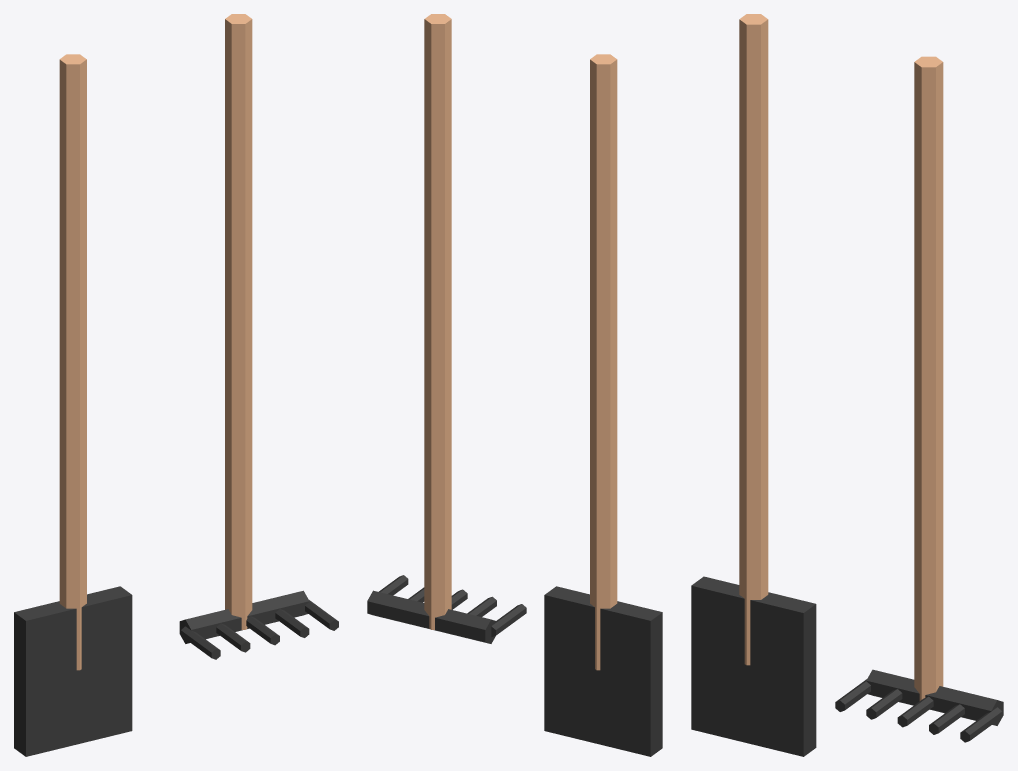
The picture shows the model from 3 angles, left to right: view 1: azimuth 30°, elevation 25°; view 2: azimuth 150°, elevation 25°; view 3: azimuth 330°, elevation 25°; orthographic projection. The views are drawn at different scales.
Parts seen in each view (by area): view 1: Spade, Tool handle.001, Tool handle, Rake head; view 2: Spade, Tool handle.001, Tool handle, Rake head, Rake tine; view 3: Tool handle.001, Spade, Tool handle, Rake head, Rake tine.004.
Part boxes in pixels (x1,y1,x2,y2): Spade: (14, 586, 132, 756); Tool handle.001: (225, 14, 252, 629); Tool handle: (59, 54, 86, 670); Rake head: (179, 590, 309, 643); Spade: (544, 586, 662, 756); Tool handle.001: (424, 14, 451, 629); Tool handle: (590, 54, 617, 670); Rake head: (367, 590, 497, 643); Rake tine: (491, 604, 526, 637); Tool handle.001: (914, 56, 943, 700); Spade: (691, 576, 816, 756); Tool handle: (739, 14, 768, 665); Rake head: (866, 669, 1003, 725); Rake tine.004: (960, 707, 1002, 742).
Bounding box in the file's own units: 0.4878 × 1.1 × 0.11.
1 material, 1 textured.
